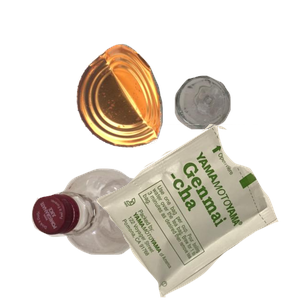glass: (172, 73, 300, 195)
metal: (74, 41, 229, 181)
plastic: (29, 166, 183, 300)
trash: (91, 124, 300, 300)
